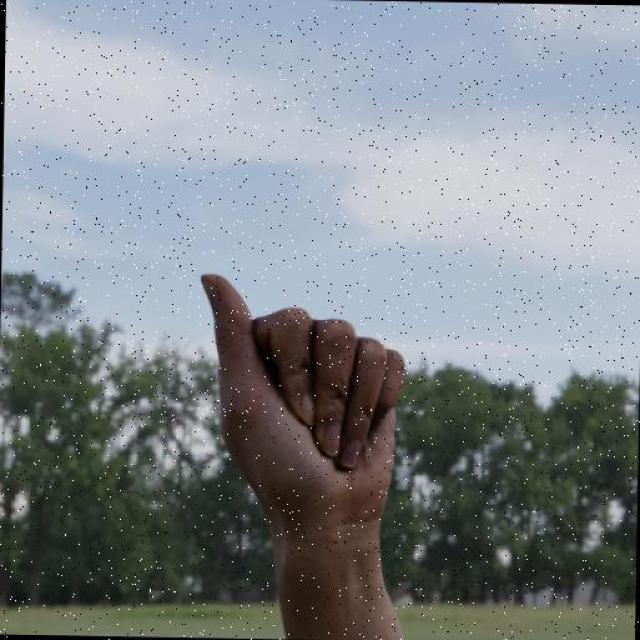A: (192, 268, 412, 547)
